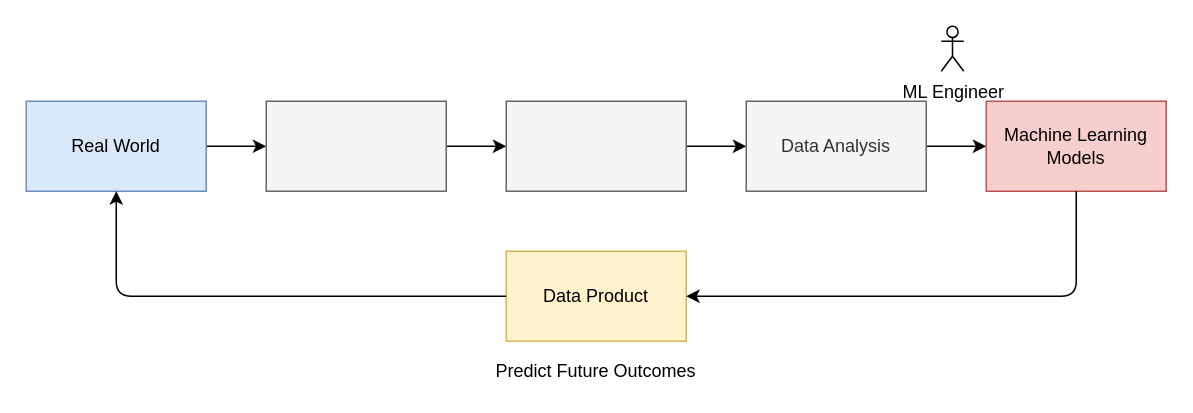
The diagram is 1193 pixels wide and 413 high, and some of its shapes have lost their labels. The shapes that lost their labels are listed below. From the top down, each one's centre as x and y in pixels, then its label:
the point at 355,145: Collect & Store Data
the point at 595,145: Clean & Organize
